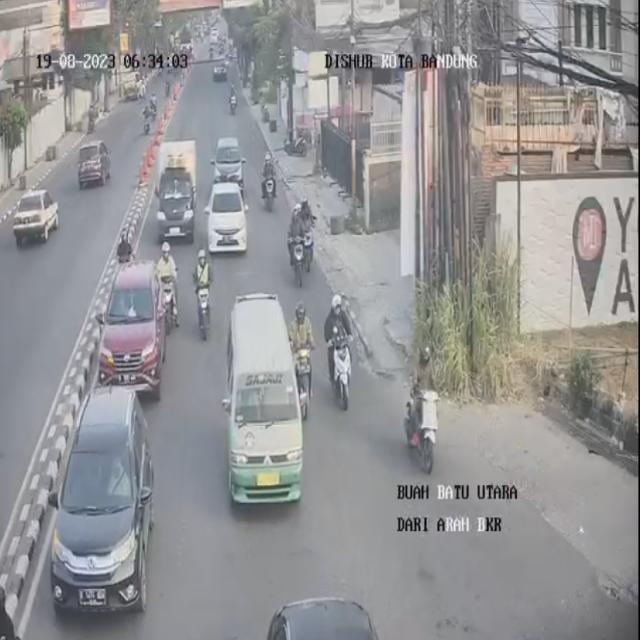cars: (48, 385, 161, 619), (224, 288, 308, 510), (101, 260, 173, 401), (262, 594, 405, 640), (158, 145, 198, 242), (210, 178, 250, 254), (211, 132, 240, 187)
motorcycle: (404, 349, 441, 471), (328, 292, 358, 407), (284, 192, 313, 284), (292, 302, 316, 408), (192, 249, 214, 338), (0, 579, 19, 639), (261, 149, 277, 210), (115, 225, 134, 268), (226, 78, 241, 118)
